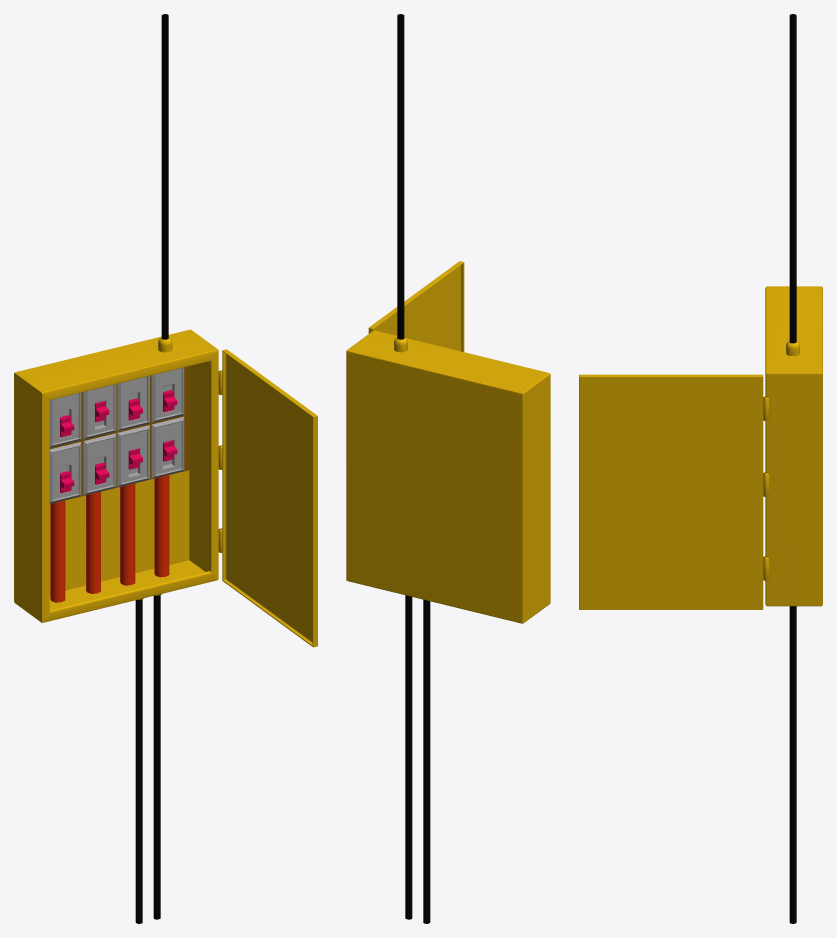
The model's file is circuitbox.fbx.
3 renders of one model, left to right at view 1: azimuth 30°, elevation 25°; view 2: azimuth 150°, elevation 25°; view 3: azimuth 270°, elevation 25°, orthographic.
Parts seen in each view (by area): view 1: pPlane2, pCube1, pPlane1, pCube23, pCube22, pCube21, pCube5, pPlane3, pPlane5, pPlane4, pCube16, pCube14 (+7 smaller); view 2: pCube1, pPlane2, pCube23, pCube22, pCube21; view 3: pPlane2, pCube1, pCube23, pCube22.
Boxes of the visible parts, x1,y1,x2,y2 form: pPlane2: [222, 349, 317, 647]; pCube1: [14, 329, 218, 622]; pPlane1: [49, 361, 209, 609]; pCube23: [161, 14, 168, 339]; pCube22: [153, 595, 160, 919]; pCube21: [135, 599, 142, 923]; pCube5: [49, 366, 190, 503]; pPlane3: [151, 416, 184, 478]; pPlane5: [83, 433, 116, 495]; pPlane4: [117, 425, 149, 487]; pCube16: [120, 483, 135, 585]; pCube14: [50, 500, 65, 602]; pCube1: [346, 330, 550, 623]; pPlane2: [368, 261, 464, 351]; pCube23: [397, 14, 404, 339]; pCube22: [405, 595, 412, 919]; pCube21: [423, 599, 430, 923]; pPlane2: [579, 374, 763, 609]; pCube1: [765, 286, 822, 606]; pCube23: [789, 14, 796, 343]; pCube22: [789, 606, 796, 923].
Size of the model in its own units: 14.3 by 66.89 by 16.22.
